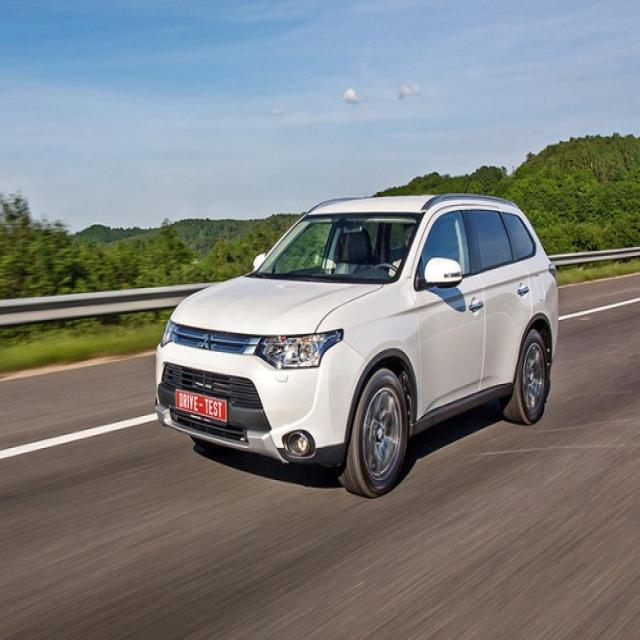light_vehicle: (154, 194, 561, 498)
